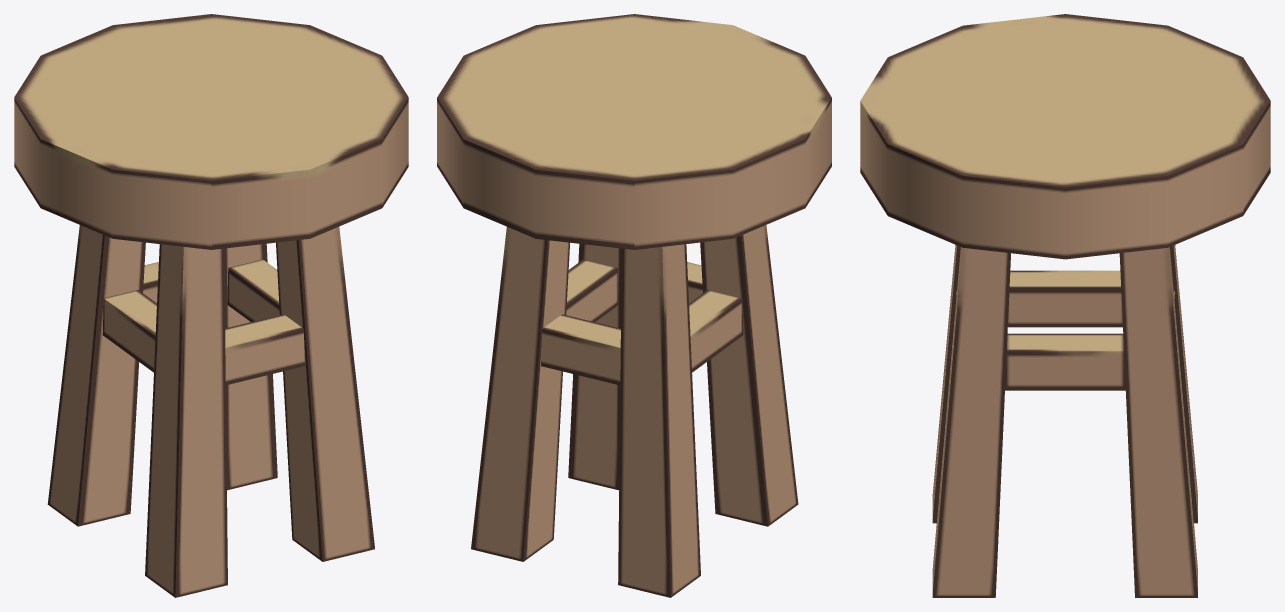
File: Highh_Chair.fbx
3 renders of one model, left to right at view 1: azimuth 30°, elevation 25°; view 2: azimuth 150°, elevation 25°; view 3: azimuth 270°, elevation 25°, orthographic. The views are drawn at different scales.
Parts seen in each view (by area): view 1: High_Chair; view 2: High_Chair; view 3: High_Chair.
Part boxes in pixels (box(x1,y1,x2,y2)): High_Chair: box(14, 14, 408, 597); High_Chair: box(437, 14, 831, 597); High_Chair: box(860, 14, 1270, 597).
Size of the model in its own units: 0.6726 by 0.8075 by 0.6726.
1 material, 1 textured.
